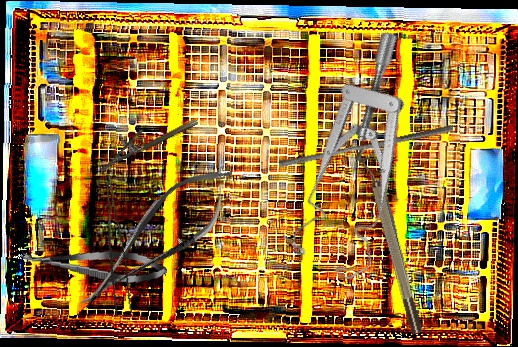Fixation Ring: (354, 143, 426, 338)
Micro Scissor: (60, 149, 252, 327), (19, 241, 169, 287)
Needle Holder: (92, 105, 199, 173)
Pusher: (277, 117, 455, 175)
Speculum: (242, 27, 492, 295)
Tissue Forceps: (89, 174, 137, 316)
